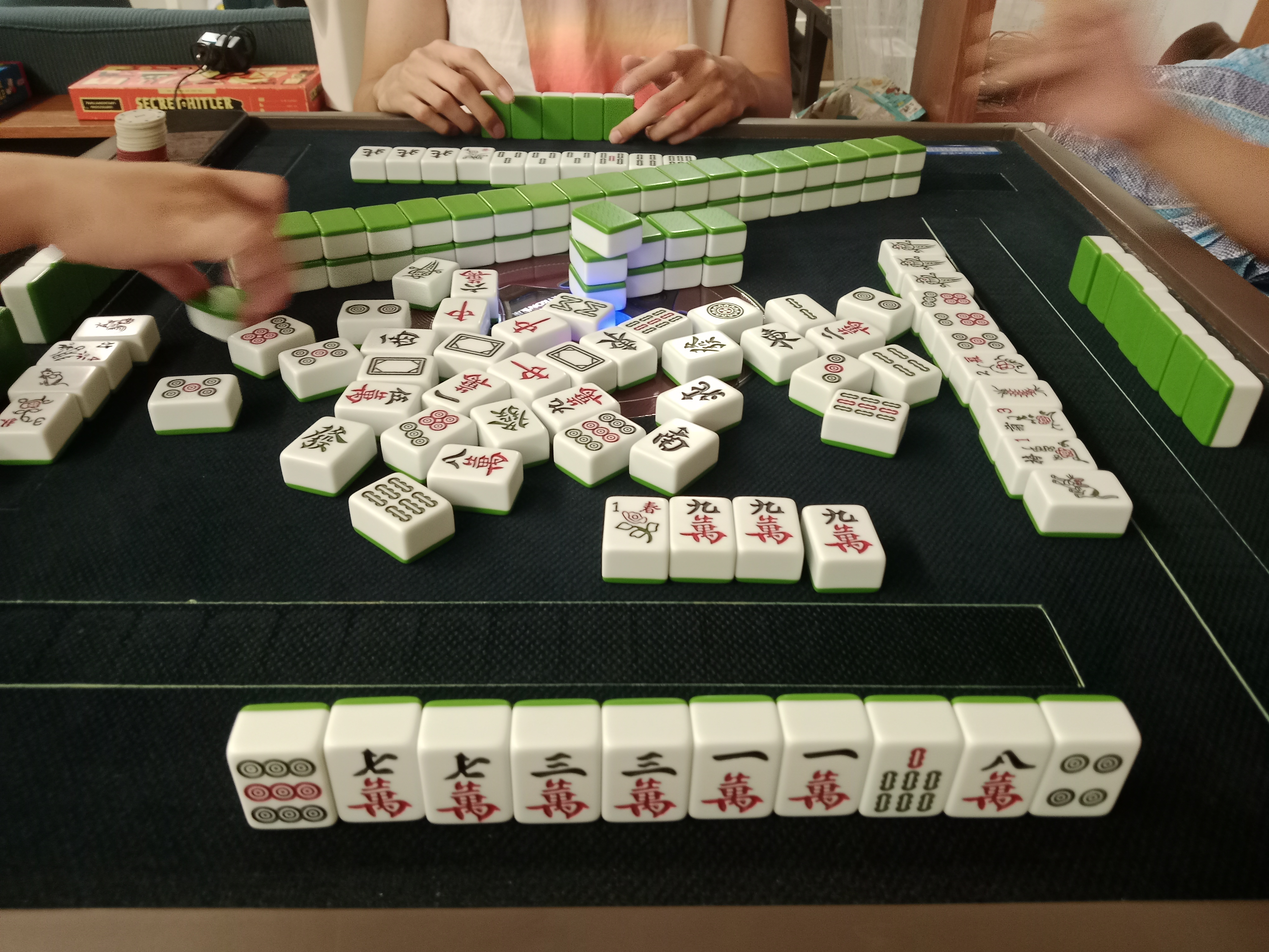TILE: (226, 753, 340, 831), (1039, 744, 1139, 816), (417, 749, 514, 822), (330, 750, 424, 822), (511, 749, 604, 821), (953, 748, 1048, 816), (870, 744, 959, 815), (600, 749, 691, 818), (692, 745, 780, 816), (781, 744, 869, 814), (803, 504, 884, 557), (603, 497, 670, 551), (669, 496, 737, 549), (735, 496, 802, 548)
